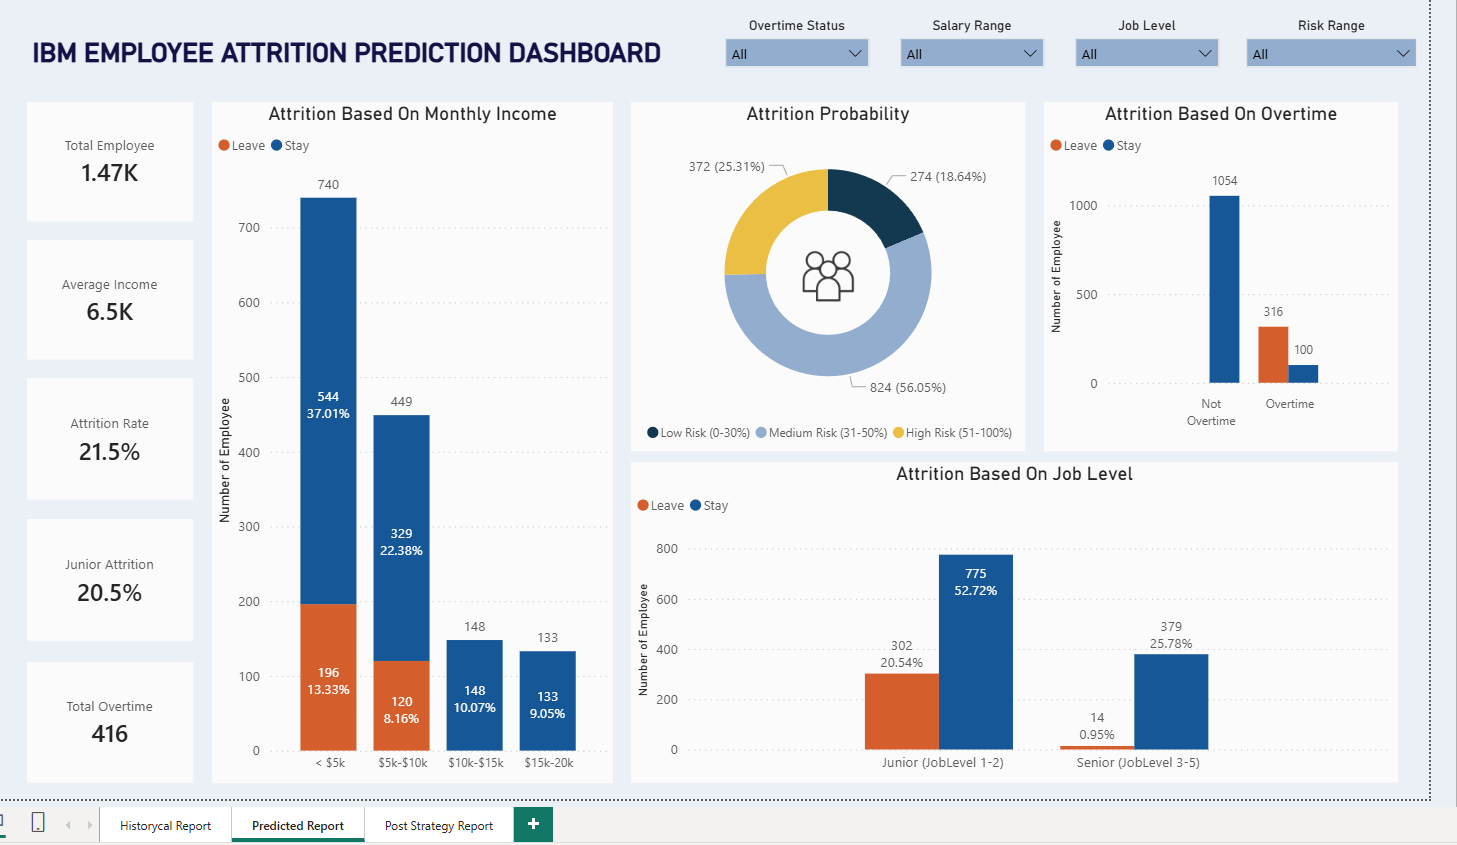

Layout of this report page (visuals, bound fields, positions):
{"tool":"powerbi","page":{"name":"Predicted Report","canvas":[1280,720],"ordinal":1},"visuals":[{"type":"cardVisual","title":"Total Employee","fields":{"Data":["CountNonNull(attrition_predictions_result.Attrition)"]},"box":[25.1,95.8,148.7,106.6],"z":0},{"type":"donutChart","title":"Attrition Probability","fields":{"Category":["attrition_predictions_result.current_risk_tier"],"Y":["attrition_predictions_result.Employee Count"]},"box":[566,95.8,352.8,313.4],"z":1000},{"type":"clusteredColumnChart","title":"Attrition Based On Overtime","fields":{"Category":["employee_attrition_cleaned.OverTime_Status"],"Y":["attrition_predictions_result.Employee Count"],"Series":["attrition_predictions_result.Predicted_Attrition_Label"]},"box":[935.8,95.8,317,313.4],"z":2000},{"type":"columnChart","title":"Attrition Based On Monthly Income","fields":{"Category":["attrition_predictions_result.Salary_Bin"],"Y":["CountNonNull(attrition_predictions_result.EmployeeNumber)"],"Series":["attrition_predictions_result.Predicted_Attrition_Label"]},"box":[190.7,95.8,359.1,609.9],"z":3000},{"type":"clusteredColumnChart","title":"Attrition Based On Job Level","fields":{"Category":["attrition_predictions_result.experience_tier"],"Series":["attrition_predictions_result.employment_status"],"Y":["CountNonNull(attrition_predictions_result.EmployeeNumber)"]},"box":[566,418.2,686.9,287.5],"z":4000},{"type":"textbox","title":"IBM EMPLOYEE ATTRITION PREDICTION DASHBOARD","box":[25.1,37.6,591.9,23.3],"z":5000},{"type":"cardVisual","title":"Total Employee","fields":{"Data":["Avg(employee_attrition_cleaned.MonthlyIncome)"]},"box":[25.1,219.4,148.7,107.5],"z":6000},{"type":"cardVisual","title":"Total Employee","fields":{"Data":["attrition_predictions_result.Predicted Attrition Rate"]},"box":[25.1,343,148.7,109.3],"z":7000},{"type":"cardVisual","title":"Total Employee","fields":{"Data":["attrition_predictions_result.Predicted Junior Attrition Rate"]},"box":[25.1,469.3,148.7,109.3],"z":8000},{"type":"cardVisual","title":"Total Employee","fields":{"Data":["employee_attrition_cleaned.Total Overtime Employees"]},"box":[25.1,597.3,148.7,108.4],"z":9000},{"type":"image","box":[719.1,228.4,46.6,47.5],"z":10000},{"type":"slicer","title":"Overtime Status","fields":{"Values":["employee_attrition_cleaned.OverTime_Status"]},"box":[640.3,20.6,148.7,56.4],"z":10001},{"type":"slicer","title":"Risk Range","fields":{"Values":["attrition_predictions_result.risk_tier"]},"box":[1106.9,20.6,172.8,56.4],"z":10002},{"type":"slicer","title":"Salary Range","fields":{"Values":["attrition_predictions_result.Salary_Bin"]},"box":[797,20.6,148.7,56.4],"z":10003},{"type":"slicer","title":"Job Level","fields":{"Values":["attrition_predictions_result.Dropdown_experience_tier"]},"box":[953.7,20.6,148.7,56.4],"z":10004}]}

Visuals, with their boxes on the page's 1280x720 design canvas (x1, y1, x2, y2). These are canvas units, not pixel positions in the 1457x845 screenshot, which may show the page scaled, cropped or inside an application window:
"Total Employee" cardVisual: bbox=[25, 96, 174, 202]
"Attrition Probability" donutChart: bbox=[566, 96, 919, 409]
"Attrition Based On Overtime" clusteredColumnChart: bbox=[936, 96, 1253, 409]
"Attrition Based On Monthly Income" columnChart: bbox=[191, 96, 550, 706]
"Attrition Based On Job Level" clusteredColumnChart: bbox=[566, 418, 1253, 706]
"IBM EMPLOYEE ATTRITION PREDICTION DASHBOARD" textbox: bbox=[25, 38, 617, 61]
"Total Employee" cardVisual: bbox=[25, 219, 174, 327]
"Total Employee" cardVisual: bbox=[25, 343, 174, 452]
"Total Employee" cardVisual: bbox=[25, 469, 174, 579]
"Total Employee" cardVisual: bbox=[25, 597, 174, 706]
image: bbox=[719, 228, 766, 276]
"Overtime Status" slicer: bbox=[640, 21, 789, 77]
"Risk Range" slicer: bbox=[1107, 21, 1280, 77]
"Salary Range" slicer: bbox=[797, 21, 946, 77]
"Job Level" slicer: bbox=[954, 21, 1102, 77]
